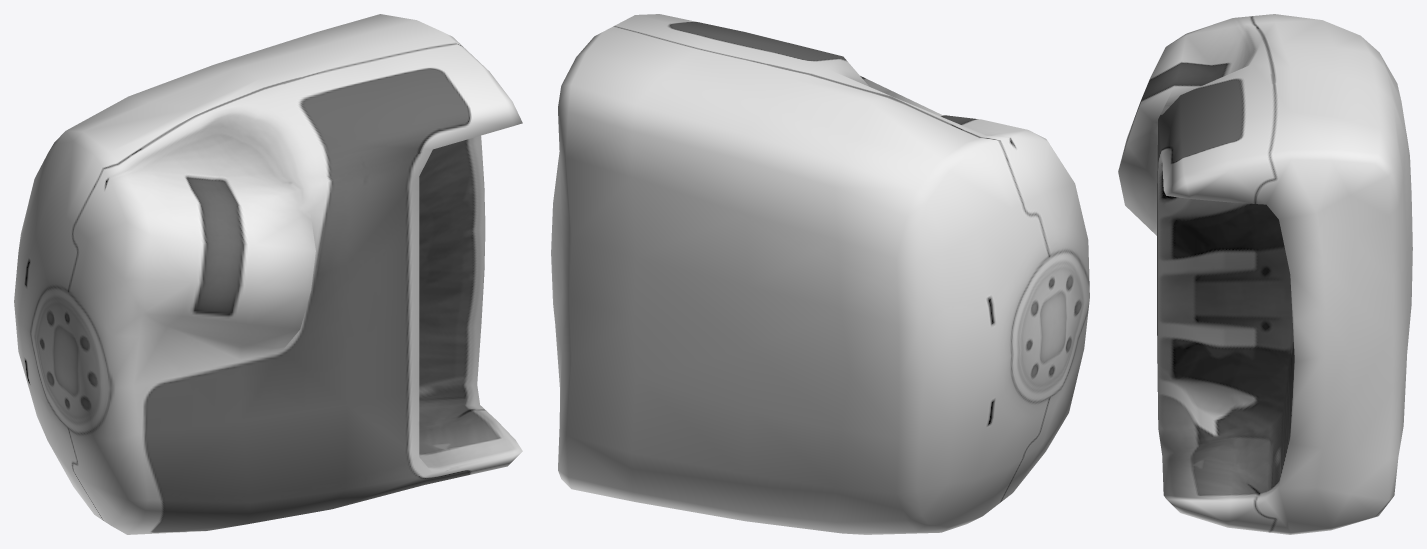
File: hand_palm.dae
The picture shows the model from 3 angles, left to right: view 1: azimuth 30°, elevation 25°; view 2: azimuth 150°, elevation 25°; view 3: azimuth 270°, elevation 25°; orthographic projection. The views are drawn at different scales.
Parts seen in each view (by area): view 1: Cube_001; view 2: Cube_001; view 3: Cube_001.
Part boxes in pixels (x1,y1,x2,y2): Cube_001: (14,14,522,534); Cube_001: (551,14,1089,534); Cube_001: (1118,14,1412,534).
Bounding box in the file's own units: 0.1202 × 0.0735 × 0.106.
1 material, 1 textured.
